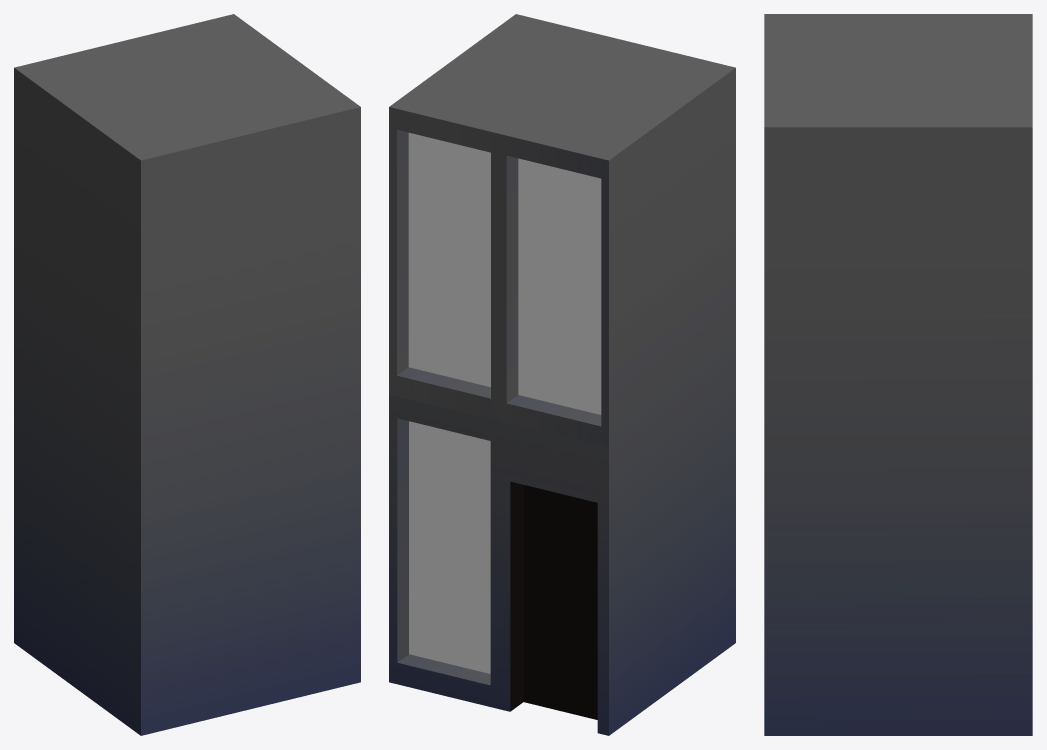
The model's file is Building3.fbx.
The picture shows the model from 3 angles, left to right: view 1: azimuth 30°, elevation 25°; view 2: azimuth 150°, elevation 25°; view 3: azimuth 270°, elevation 25°; orthographic projection. The views are drawn at different scales.
Visible parts, largest first — view 1: Cube; view 2: Cube; view 3: Cube.
Part boxes in pixels (x1,y1,x2,y2): Cube: [14, 14, 360, 735]; Cube: [389, 14, 735, 735]; Cube: [764, 14, 1032, 735].
Size of the model in its own units: 2000 by 5000 by 2000.
